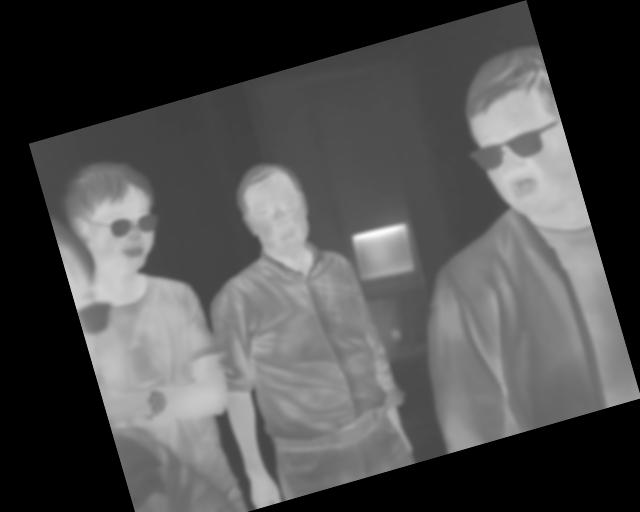face: (448, 39, 585, 231), (57, 148, 172, 285), (227, 152, 321, 264)
